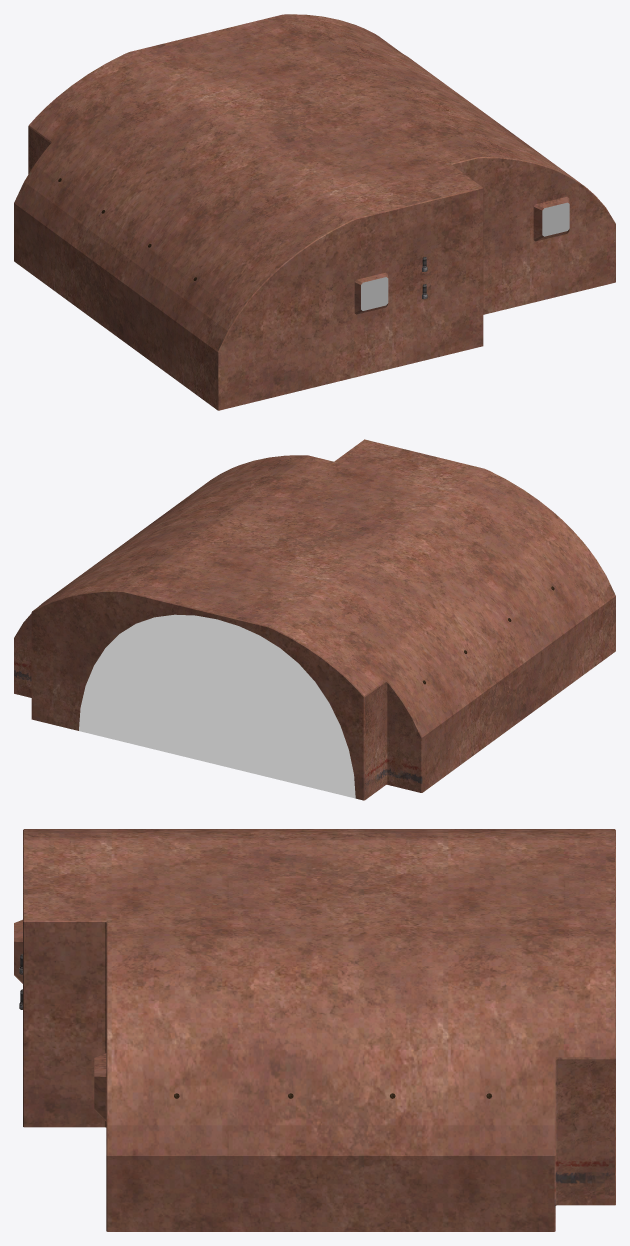
File: thm_nboo_cantina_r5_alcove2_mesh_r5.fbx
The picture shows the model from 3 angles, top to bottom: view 1: azimuth 30°, elevation 25°; view 2: azimuth 150°, elevation 25°; view 3: azimuth 270°, elevation 25°; orthographic projection. The views are drawn at different scales.
Visible parts, largest first — view 1: mesh_node; view 2: mesh_node; view 3: mesh_node.
Part boxes in pixels (x1,y1,x2,y2): mesh_node: (14,14,615,410); mesh_node: (14,439,615,800); mesh_node: (14,829,615,1231).
Bounding box in the file's own units: 11.79 × 4.15 × 10.98.
